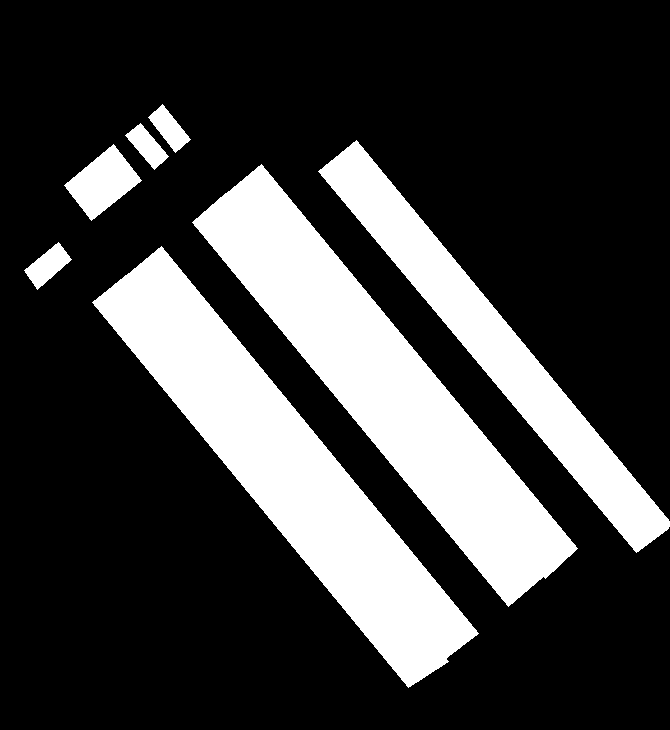parkingspot: (92, 273, 448, 687), (126, 246, 478, 659), (226, 164, 577, 578), (318, 140, 670, 552), (192, 193, 543, 606), (64, 144, 141, 220), (24, 242, 71, 289), (148, 104, 190, 152), (125, 123, 168, 169)
